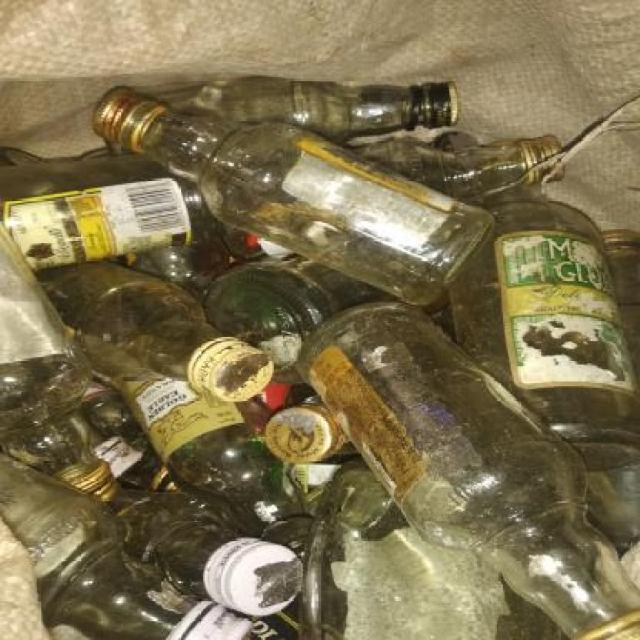garbage: (6, 71, 598, 568)
